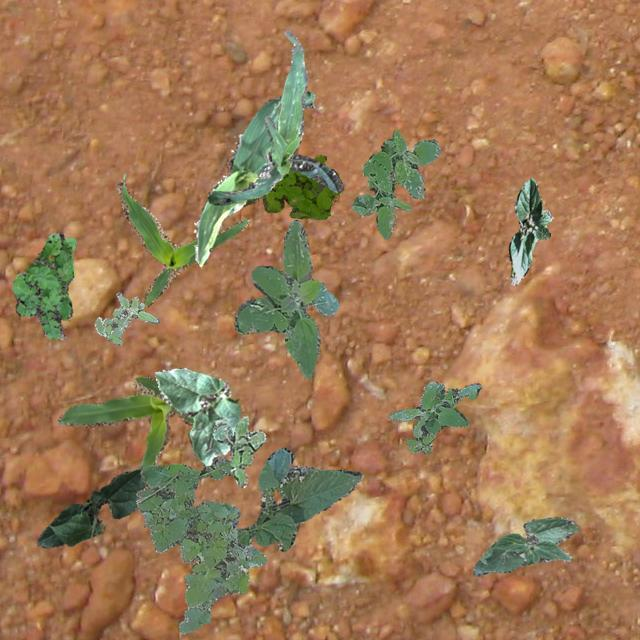crop: (192, 90, 342, 266), (206, 28, 308, 205), (115, 180, 248, 306), (236, 446, 362, 550), (56, 376, 192, 464), (36, 464, 144, 546), (153, 366, 240, 466), (472, 516, 578, 576), (508, 176, 552, 284)
weed: (136, 456, 266, 632), (234, 218, 338, 378), (352, 128, 439, 238), (10, 232, 76, 338), (388, 381, 480, 454), (242, 154, 338, 218), (210, 414, 264, 486), (94, 292, 158, 344)
